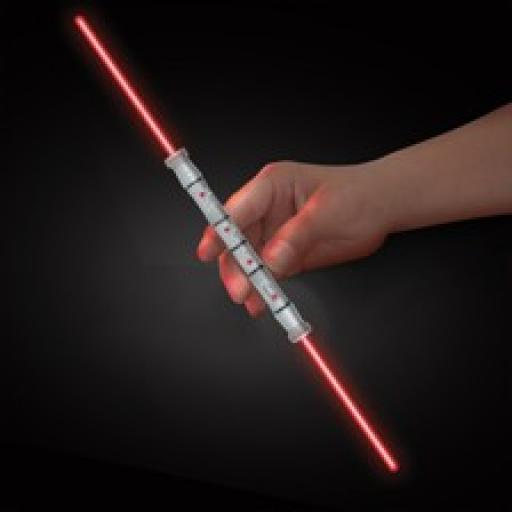lightsaber: (72, 12, 398, 474)
